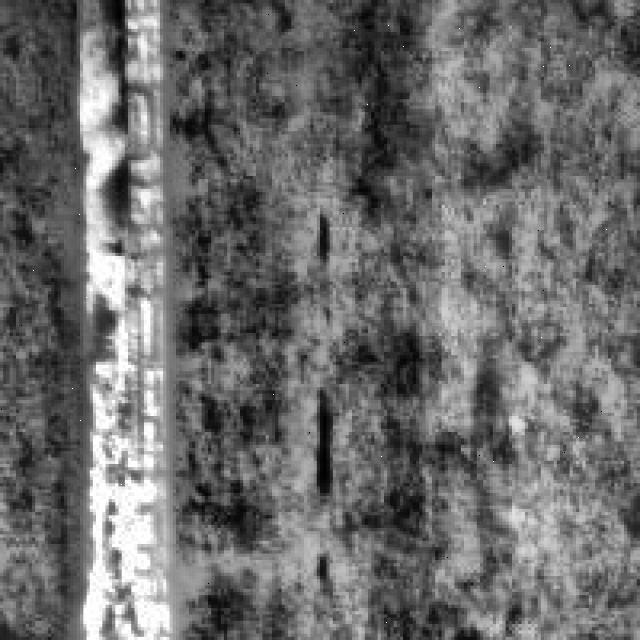Inclusion: (74, 0, 185, 634)
Patches: (307, 380, 349, 502)
